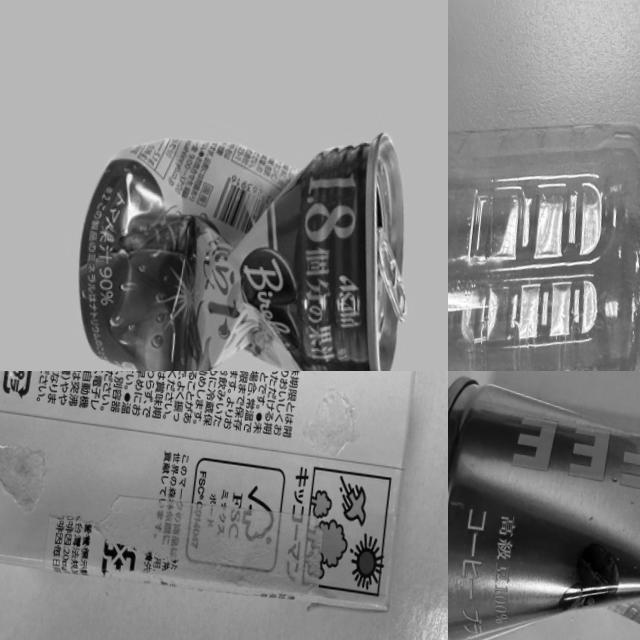Aluminium Foil: (0, 371, 420, 611)
Can: (63, 102, 420, 371), (448, 395, 640, 640)
Transparent Plastic Bottle: (448, 75, 640, 371)
